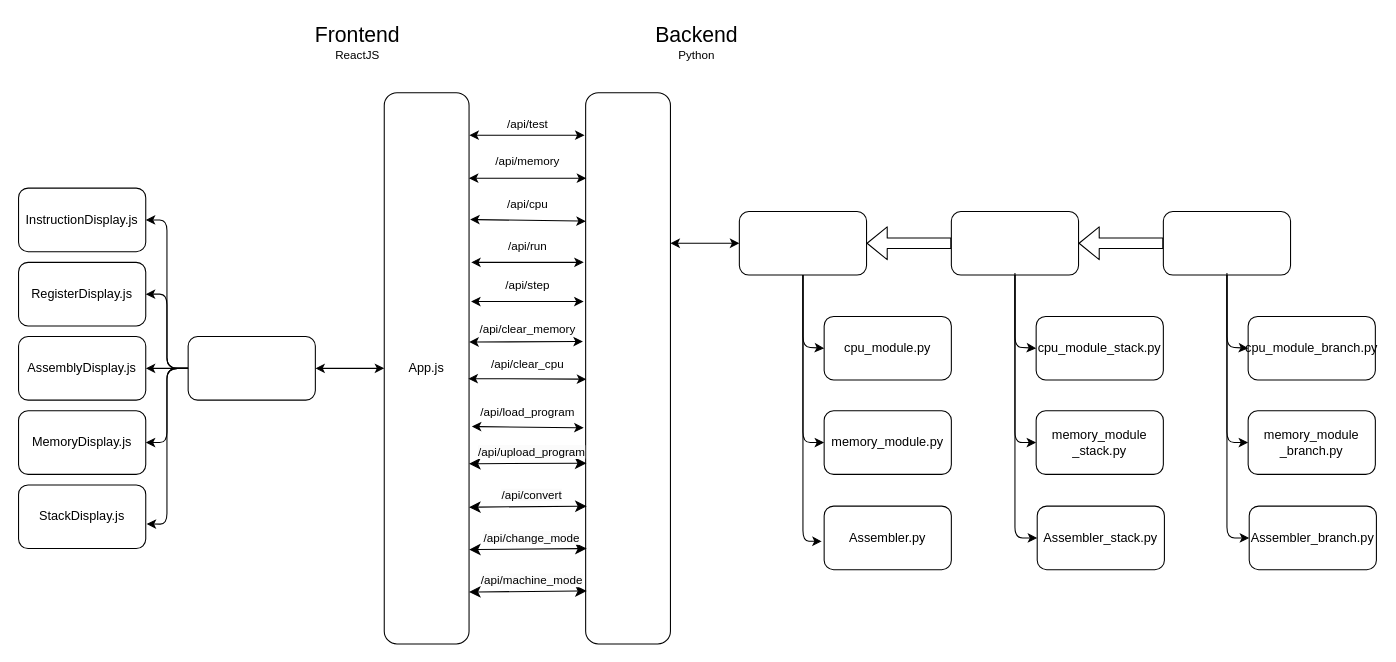
The diagram is 1396 pixels wide and 662 high, and some of its shapes have lost their labels. The shapes that lost their labels are listed below. From the top down, each one's box as (x1, y1, x2, y2) in pixels, then its label:
(738, 210, 867, 275): Machine.py
(950, 210, 1079, 275): Machine_stack.py
(1162, 210, 1291, 275): Machine_ branch .py
(187, 335, 315, 400): MachineDisplay.js
(585, 92, 670, 644): app.py
